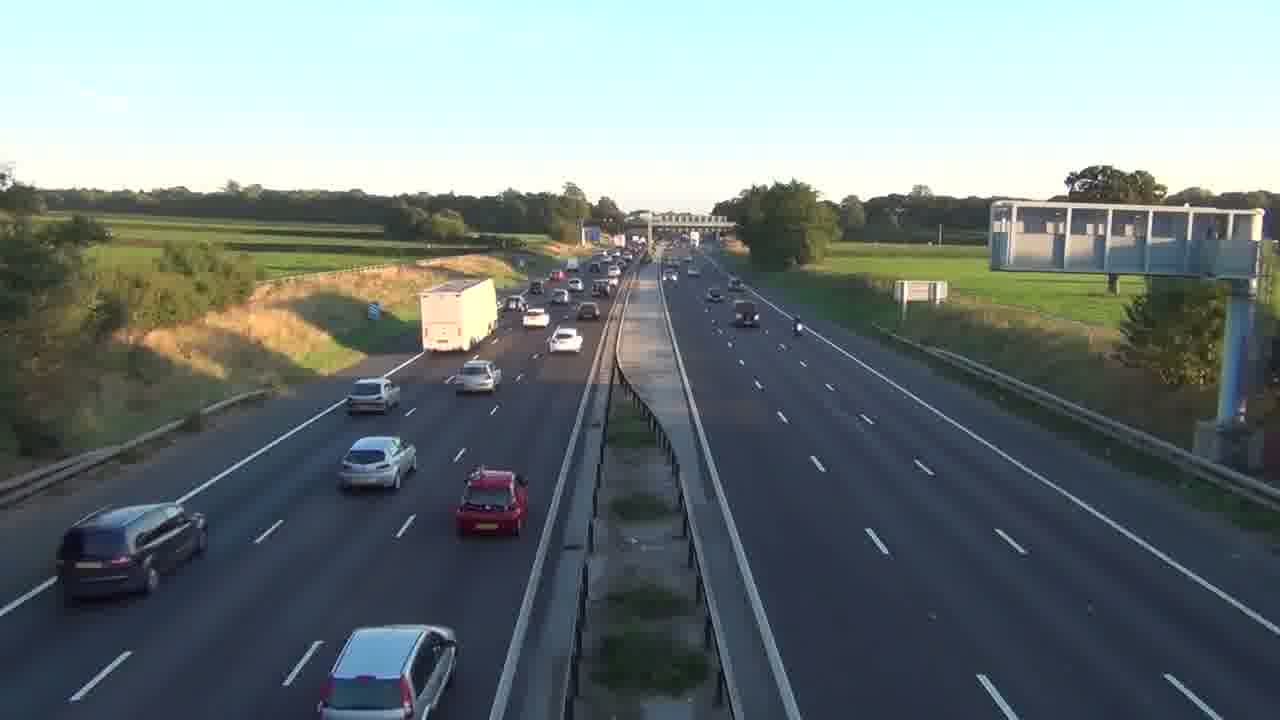car: (317, 623, 462, 719), (337, 434, 417, 491), (348, 376, 400, 415), (452, 360, 499, 394)
truck: (56, 501, 208, 603), (418, 277, 499, 353), (455, 466, 529, 537), (348, 376, 400, 415)
